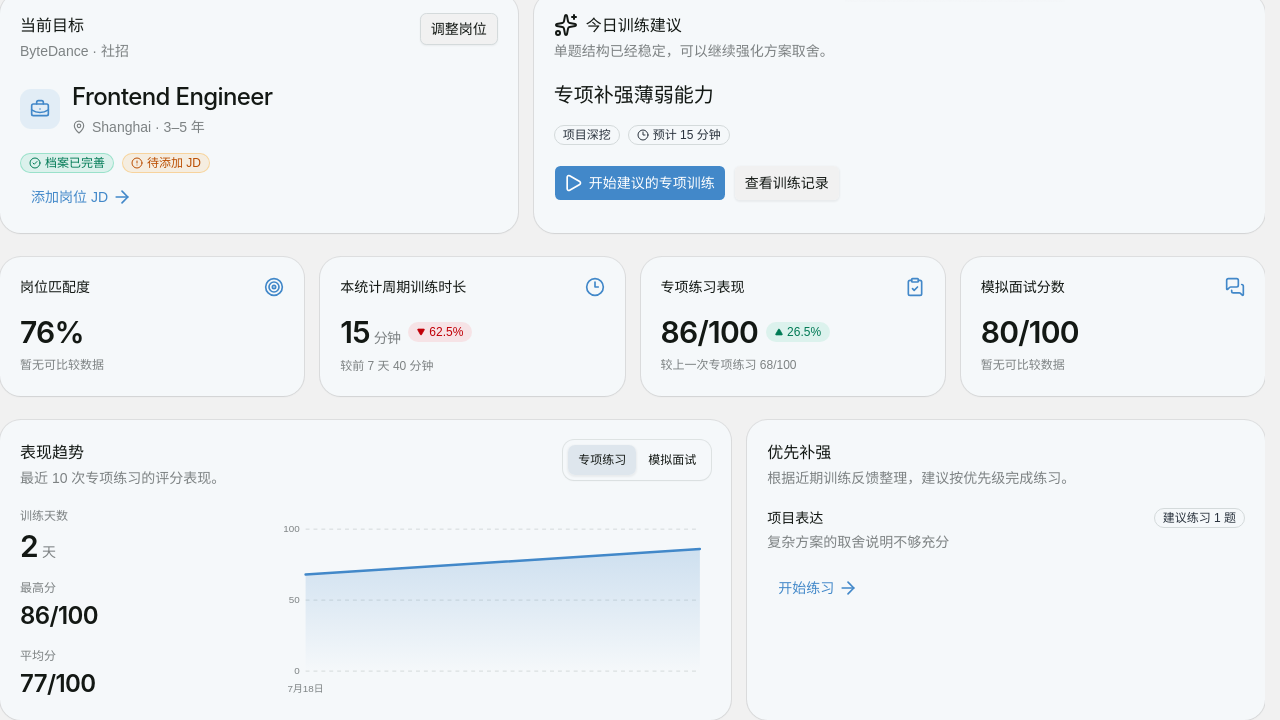
DashboardView › renders complete business data and scores on the /100 scale
The image size is (1280, 720).
(page scrolled)
Check: the text "Frontend Engineer" is shown, box [72, 80, 272, 112]
Check: the text "单题结构已经稳定，可以继续强化方案取舍。" is shown, box [554, 42, 834, 58]
Focus the picture named "最近 10 次专项练习评分表现" at (494, 608), box [278, 516, 711, 700]
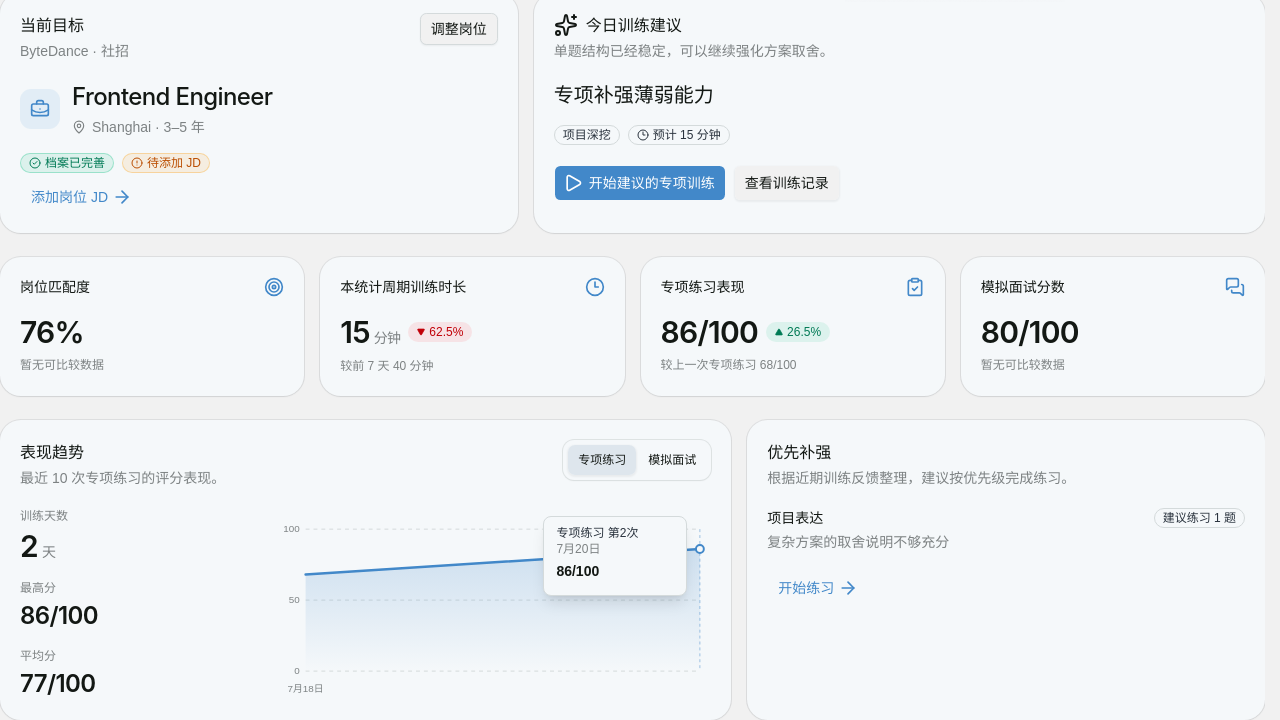
Check: the text "专项练习 第2次" is shown, box [556, 526, 638, 540]
